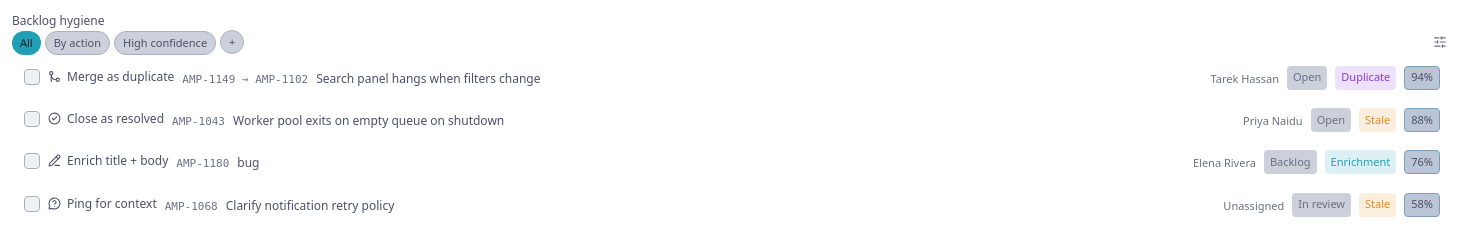
Test case: BacklogHygienePage › High confidence view filters to confidence >= 85
This screenshot has width=1464, height=234.
Step 1. Click the button "High confidence" → click(165, 44), box [114,32,216,56]
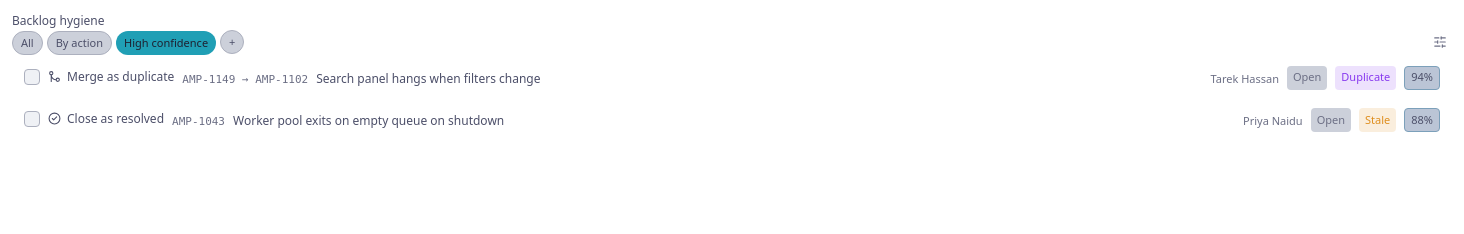
Expected: the text "AMP-1149 → AMP-1102" is shown, [182,73,308,86]
Expected: the button "AMP-1068" is gone
Expected: the button "AMP-1180" is gone
